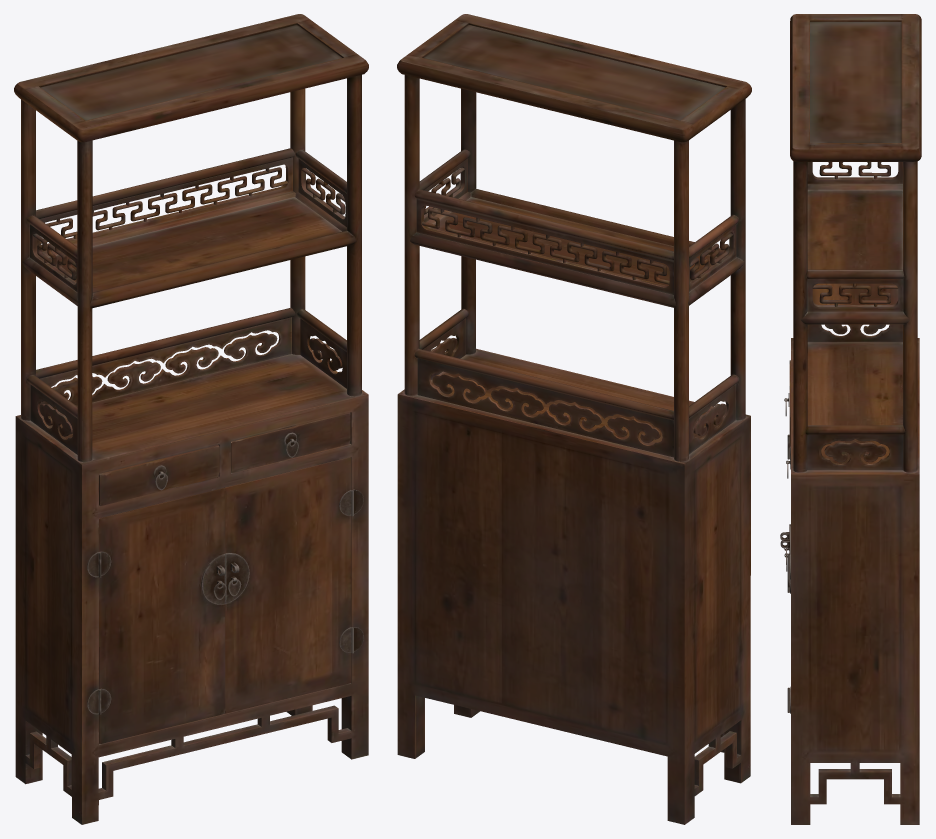
The model's file is 2b43761f-123c-4017-b706-ebef91754456.glb.
3 views of the same model, side by side, from view 1: azimuth 30°, elevation 25°; view 2: azimuth 150°, elevation 25°; view 3: azimuth 270°, elevation 25° (orthographic). The views are drawn at different scales.
Visible parts, largest first — view 1: chinese_cabinet; view 2: chinese_cabinet; view 3: chinese_cabinet.
Boxes of the visible parts, x1,y1,x2,y2 form: chinese_cabinet: [14, 14, 368, 824]; chinese_cabinet: [397, 14, 751, 824]; chinese_cabinet: [780, 14, 921, 824].
Size of the model in its own units: 1.26 by 2.87 by 0.5452.
Materials: 1 (1 with a texture image).
